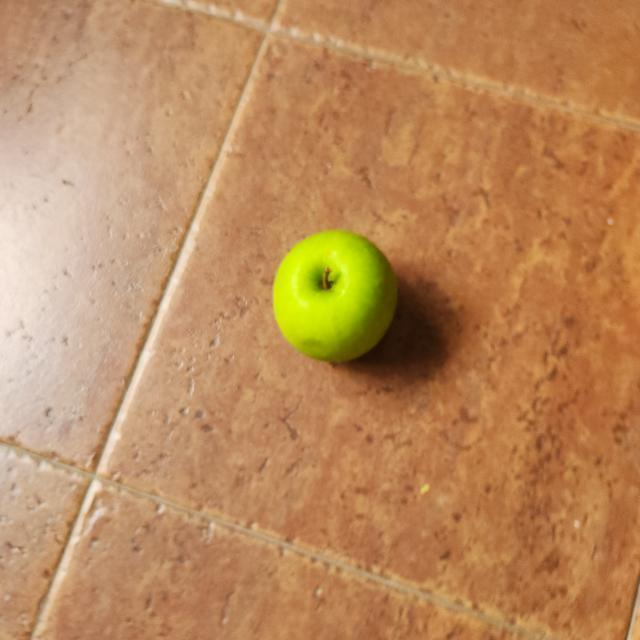apple: (268, 222, 402, 374)
